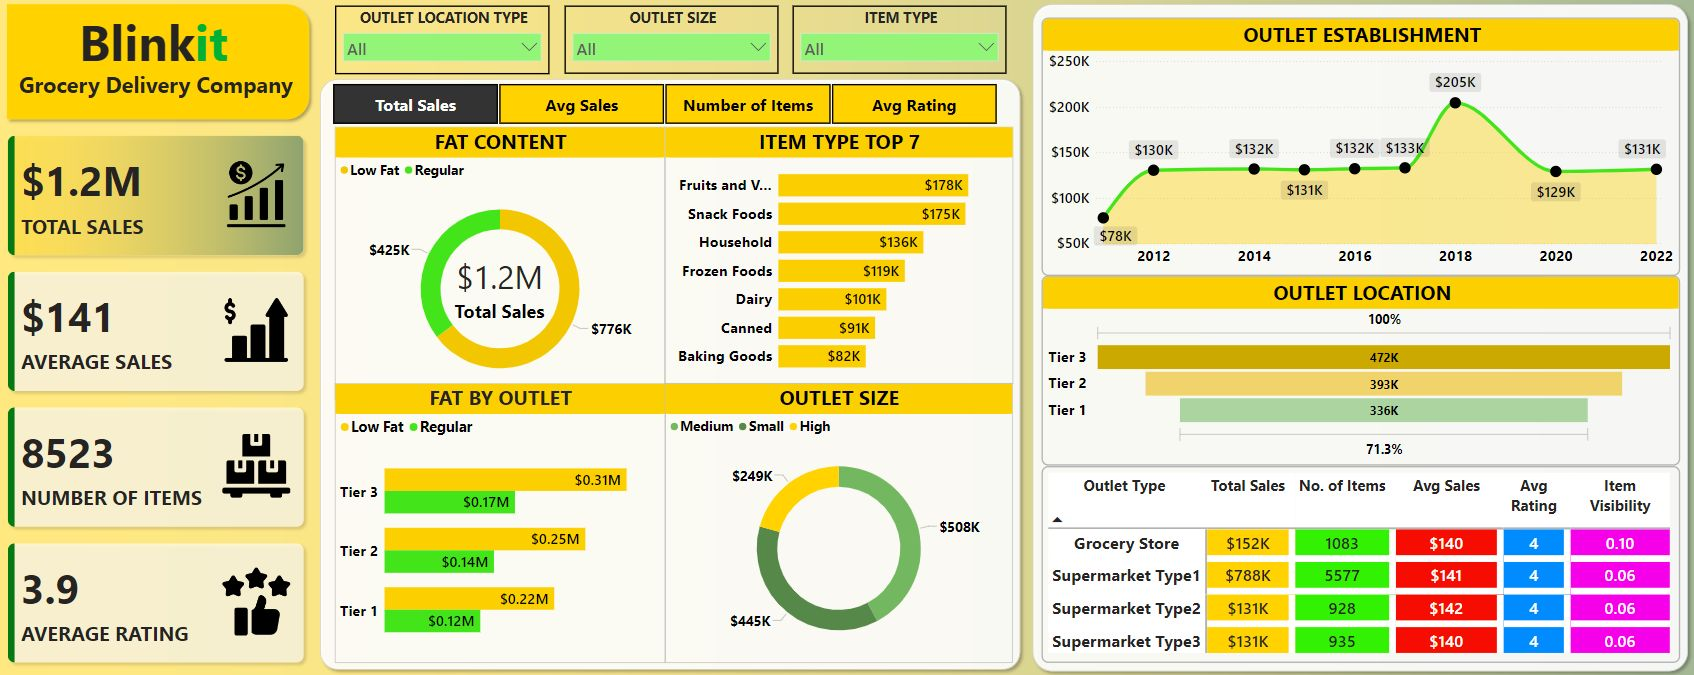

Layout of this report page (visuals, bound fields, positions):
{"tool":"powerbi","page":{"name":"Page 1","canvas":[2500,1000],"ordinal":0},"visuals":[{"type":"shape","box":[6.6,0,463.9,187.8],"z":0},{"type":"textbox","box":[28.7,8.8,406.5,117.1],"z":1000},{"type":"textbox","box":[28.7,99.4,426.4,57.4],"z":2000},{"type":"cardVisual","fields":{"Data":["BlinkIT Grocery Data.Total Sales","BlinkIT Grocery Data.Avg Sales","BlinkIT Grocery Data.Number of Items","BlinkIT Grocery Data.Avg Rating"]},"box":[0,186.3,470.2,813.3],"z":3000},{"type":"shape","box":[469.1,111,1049.1,887.7],"z":4000},{"type":"donutChart","title":"FAT CONTENT","fields":{"Y":["BlinkIT Grocery Data.Total Sales","BlinkIT Grocery Data.Avg Sales","BlinkIT Grocery Data.Number of Items","BlinkIT Grocery Data.Avg Rating"],"Category":["BlinkIT Grocery Data.Item Fat Content"]},"box":[499.3,190,486,402.1],"z":5000},{"type":"slicer","title":"FAT CONTENT","fields":{"Values":["Metric .Metric "]},"box":[470.6,119.3,1027.3,72.9],"z":6000},{"type":"card","fields":{"Values":["BlinkIT Grocery Data.Total Sales"]},"box":[667.2,371.1,148,110.5],"z":7000},{"type":"clusteredBarChart","title":"FAT BY OUTLET","fields":{"Y":["BlinkIT Grocery Data.Total Sales"],"Category":["BlinkIT Grocery Data.Outlet Location Type"],"Series":["BlinkIT Grocery Data.Item Fat Content"]},"box":[499.3,567.4,486.7,411.1],"z":8000},{"type":"barChart","title":"ITEM TYPE TOP 7","fields":{"Y":["BlinkIT Grocery Data.Total Sales","BlinkIT Grocery Data.Avg Sales","BlinkIT Grocery Data.Number of Items","BlinkIT Grocery Data.Avg Rating"],"Category":["BlinkIT Grocery Data.Item Type"]},"box":[985.3,190,512.5,377.8],"z":9000},{"type":"shape","box":[1517.7,0,983.1,1000.8],"z":10000},{"type":"lineChart","title":"OUTLET ESTABLISHMENT","fields":{"Category":["BlinkIT Grocery Data.Outlet Establishment Year"],"Y":["BlinkIT Grocery Data.Total Sales"]},"box":[1540.9,27.7,940.7,380.8],"z":11000},{"type":"donutChart","title":"OUTLET SIZE","fields":{"Y":["BlinkIT Grocery Data.Total Sales"],"Category":["BlinkIT Grocery Data.Outlet Size"]},"box":[986.1,567.4,511.9,411.1],"z":12000},{"type":"funnel","title":"OUTLET LOCATION","fields":{"Y":["Sum(BlinkIT Grocery Data.Sales)"],"Category":["BlinkIT Grocery Data.Outlet Location Type"]},"box":[1540.9,408.5,940.7,279.9],"z":13000},{"type":"pivotTable","fields":{"Rows":["BlinkIT Grocery Data.Outlet Type"],"Values":["BlinkIT Grocery Data.Total Sales","BlinkIT Grocery Data.Number of Items","BlinkIT Grocery Data.Avg Sales","BlinkIT Grocery Data.Avg Rating","Avg(BlinkIT Grocery Data.Item Visibility)"]},"box":[1540.9,688.5,940.7,290],"z":14000},{"type":"slicer","title":"OUTLET LOCATION TYPE","fields":{"Values":["BlinkIT Grocery Data.Outlet Location Type"]},"box":[499.3,11,315.9,101.6],"z":15000},{"type":"slicer","title":"OUTLET SIZE","fields":{"Values":["BlinkIT Grocery Data.Outlet Size"]},"box":[837.3,10.1,315.2,100.9],"z":16000},{"type":"slicer","title":"ITEM TYPE","fields":{"Values":["BlinkIT Grocery Data.Item Type"]},"box":[1172.7,10.1,315.2,100.9],"z":17000}]}

Visuals, with their boxes in screenshot pixels (x1, y1, x2, y2), scaled from the page's 2500x1000 canvas onto the 1694x675 screenshot:
shape: bbox(4, 0, 319, 127)
textbox: bbox(19, 6, 295, 85)
textbox: bbox(19, 67, 308, 106)
cardVisual - BlinkIT Grocery Data.Total Sales x BlinkIT Grocery Data.Avg Sales: bbox(0, 126, 319, 674)
shape: bbox(318, 75, 1029, 674)
"FAT CONTENT" donutChart: bbox(338, 128, 668, 400)
"FAT CONTENT" slicer: bbox(319, 81, 1015, 130)
card - BlinkIT Grocery Data.Total Sales: bbox(452, 250, 552, 325)
"FAT BY OUTLET" clusteredBarChart: bbox(338, 383, 668, 660)
"ITEM TYPE TOP 7" barChart: bbox(668, 128, 1015, 383)
shape: bbox(1028, 0, 1693, 674)
"OUTLET ESTABLISHMENT" lineChart: bbox(1044, 19, 1682, 276)
"OUTLET SIZE" donutChart: bbox(668, 383, 1015, 660)
"OUTLET LOCATION" funnel: bbox(1044, 276, 1682, 465)
pivotTable - BlinkIT Grocery Data.Outlet Type x BlinkIT Grocery Data.Total Sales: bbox(1044, 465, 1682, 660)
"OUTLET LOCATION TYPE" slicer: bbox(338, 7, 552, 76)
"OUTLET SIZE" slicer: bbox(567, 7, 781, 75)
"ITEM TYPE" slicer: bbox(795, 7, 1008, 75)
